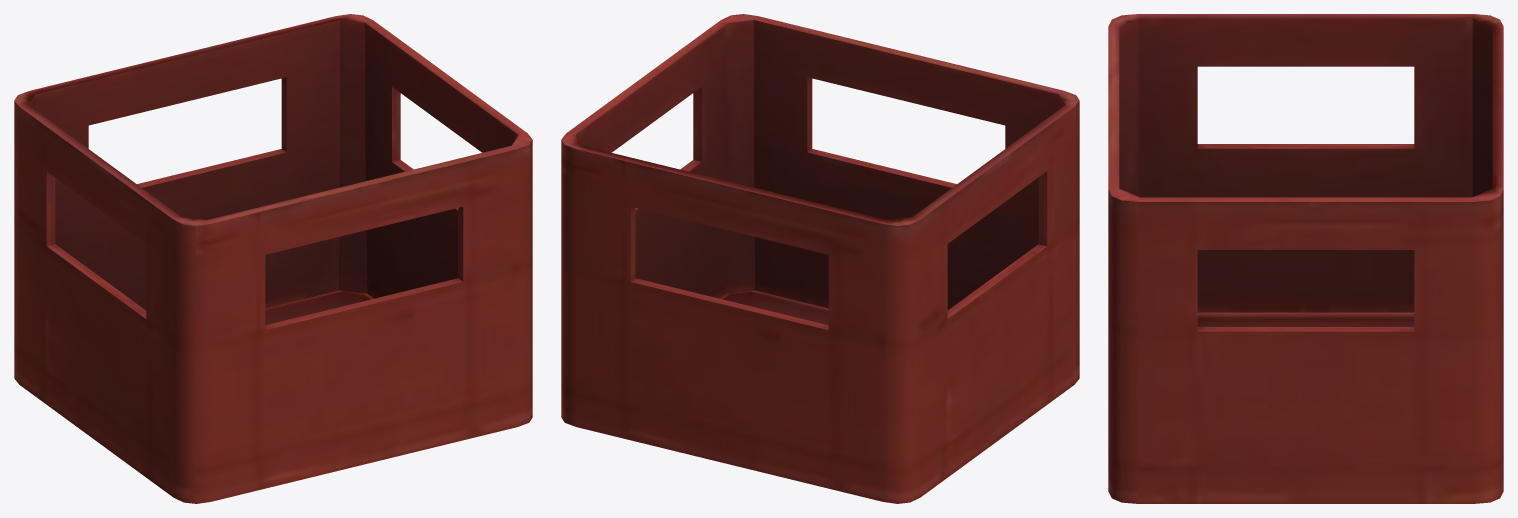
The picture shows the model from 3 angles, left to right: view 1: azimuth 30°, elevation 25°; view 2: azimuth 150°, elevation 25°; view 3: azimuth 270°, elevation 25°; orthographic projection. The views are drawn at different scales.
Parts seen in each view (by area): view 1: body0_model0_lod0_mesh0; view 2: body0_model0_lod0_mesh0; view 3: body0_model0_lod0_mesh0.
Part boxes in pixels (x1,y1,x2,y2): body0_model0_lod0_mesh0: (14,14,532,503); body0_model0_lod0_mesh0: (561,14,1079,503); body0_model0_lod0_mesh0: (1108,14,1503,503).
Bounding box in the file's own units: 36 × 27 × 32.
1 material, 1 textured.
